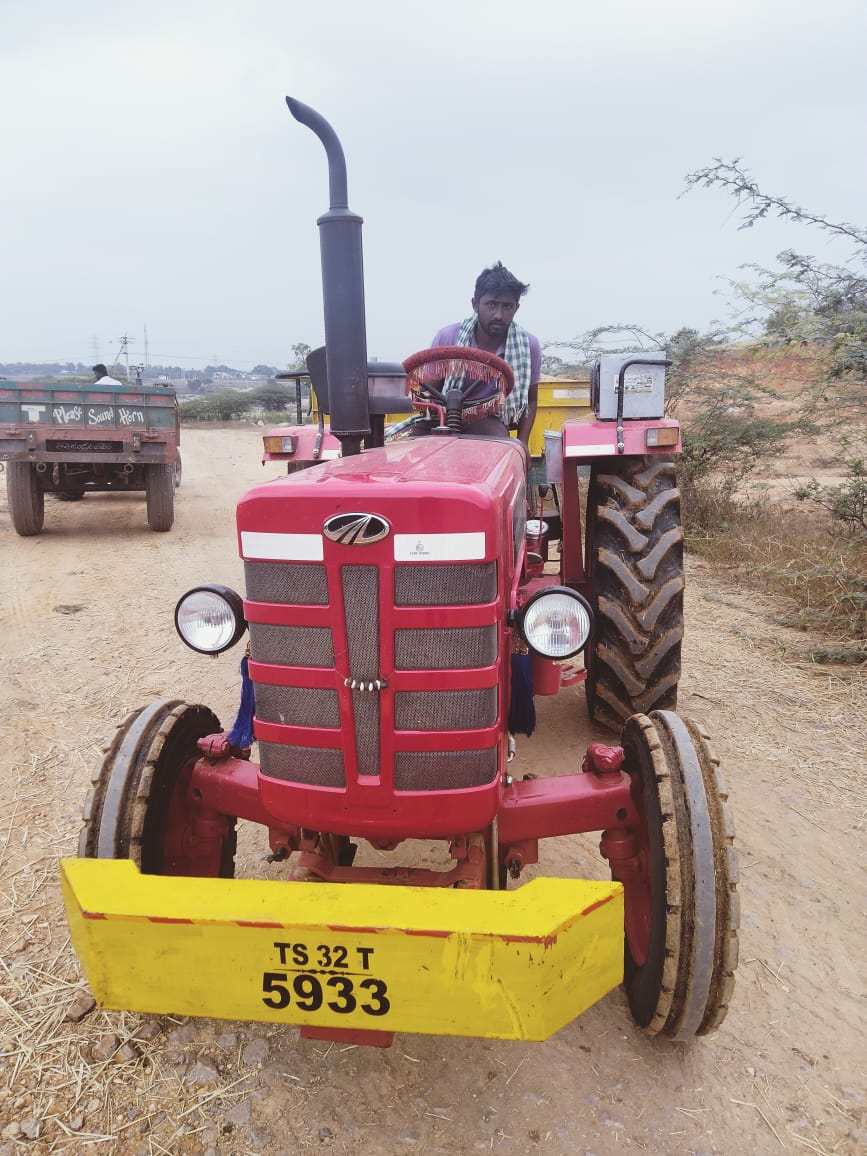num_plate: (240, 924, 424, 1032)
